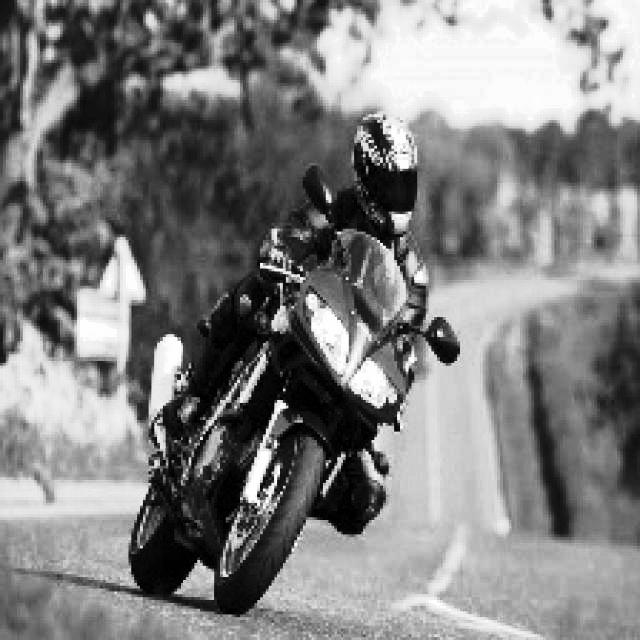Bike: (147, 198, 395, 616)
